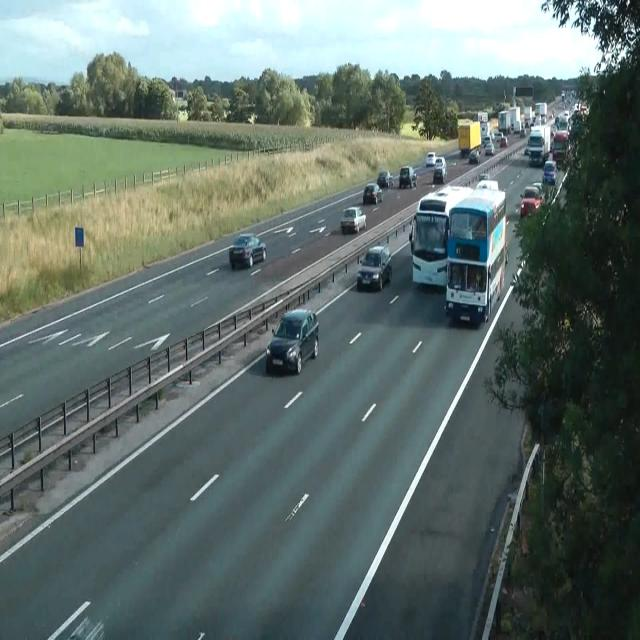bus: (356, 245, 392, 291), (228, 233, 266, 269), (340, 206, 366, 234), (362, 182, 382, 205), (377, 170, 393, 188), (476, 180, 498, 190), (468, 148, 480, 164), (426, 151, 436, 166), (484, 142, 494, 156), (532, 181, 542, 193), (500, 135, 508, 147), (479, 172, 489, 180)
car: (443, 182, 507, 324), (409, 183, 473, 290)
jeep: (265, 307, 319, 374), (520, 186, 544, 218), (398, 166, 416, 188), (433, 156, 447, 183), (542, 159, 556, 185)
minibus: (527, 125, 551, 167), (458, 120, 482, 161), (508, 106, 522, 133), (476, 111, 488, 141), (498, 110, 510, 134), (534, 102, 547, 124)
